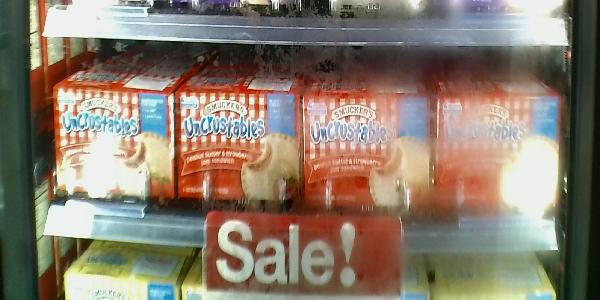icecream: (303, 93, 439, 220), (441, 96, 562, 218), (179, 91, 299, 212), (52, 88, 178, 203)
